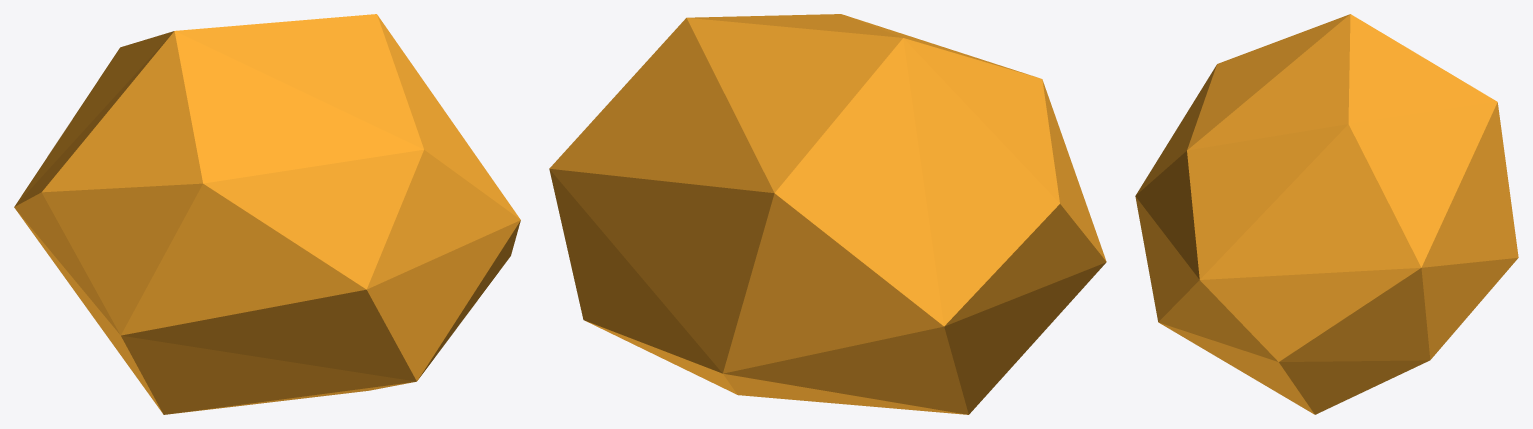
Rendered from SM_Potato_D.fbx.
3 renders of one model, left to right at view 1: azimuth 30°, elevation 25°; view 2: azimuth 150°, elevation 25°; view 3: azimuth 270°, elevation 25°, orthographic. The views are drawn at different scales.
Visible parts, largest first — view 1: potato-d; view 2: potato-d; view 3: potato-d.
Part boxes in pixels (<box>): potato-d: <box>14,14,520,414</box>; potato-d: <box>549,14,1106,414</box>; potato-d: <box>1135,14,1518,414</box>.
Size of the model in its own units: 0.0971 by 0.0829 by 0.0876.
